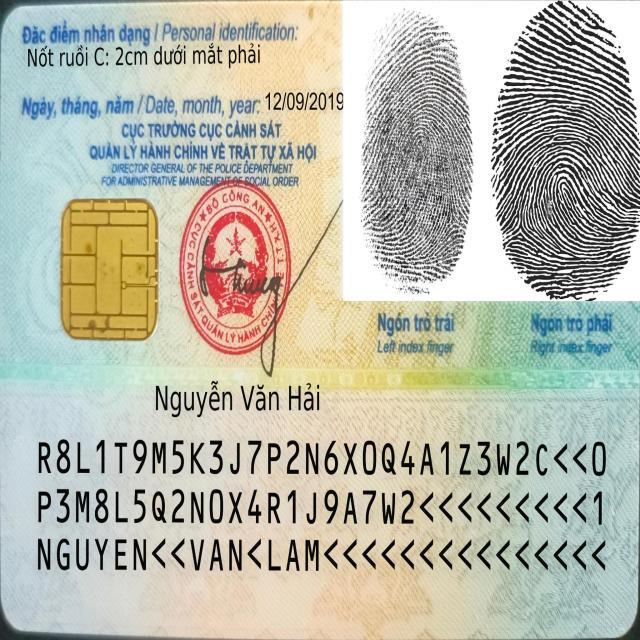features: (22, 41, 266, 72)
finger_print: (485, 4, 640, 363), (342, 3, 484, 362)
issue_date: (264, 85, 345, 114)
